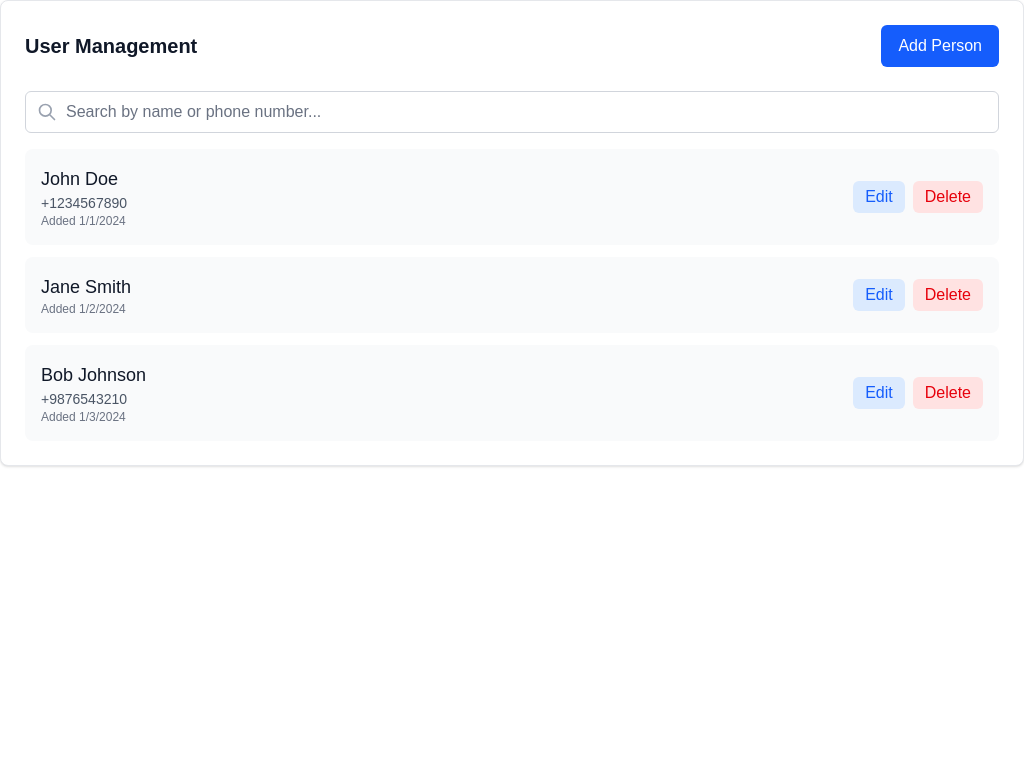
UserManagement › Add Person Modal › opens add person modal when add button is clicked
The width and height of the screenshot is (1024, 768).
Click the button "Add Person" at {"x": 940, "y": 46}, box [881,25,999,67]
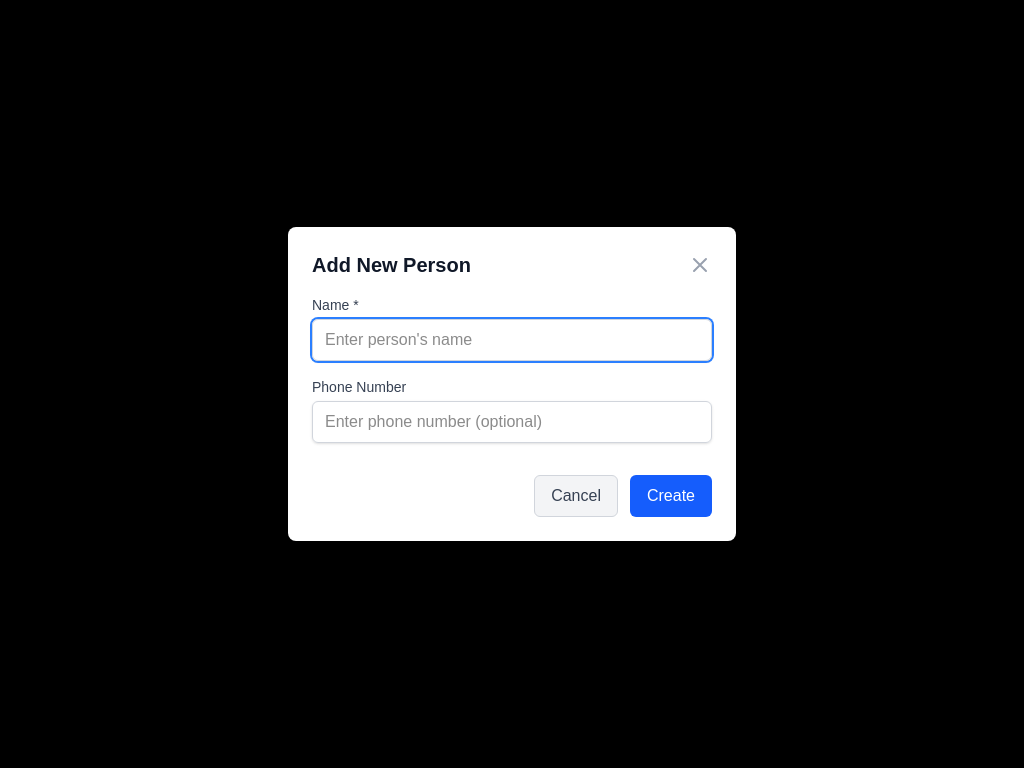
Expected: the heading "Add New Person" is shown, [312,251,471,279]
Expected: the field labelled "Name *" is shown, [312,319,712,361]
Expected: the field labelled "Phone Number" is shown, [312,401,712,443]
